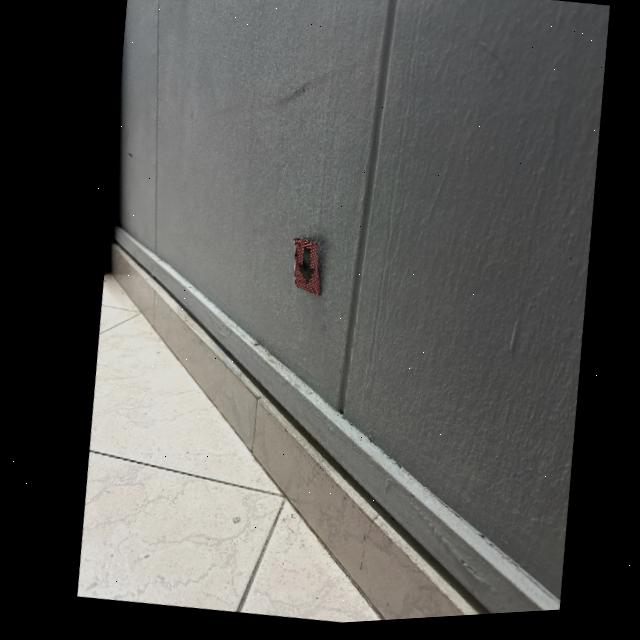DOWN: (294, 251, 309, 287)
